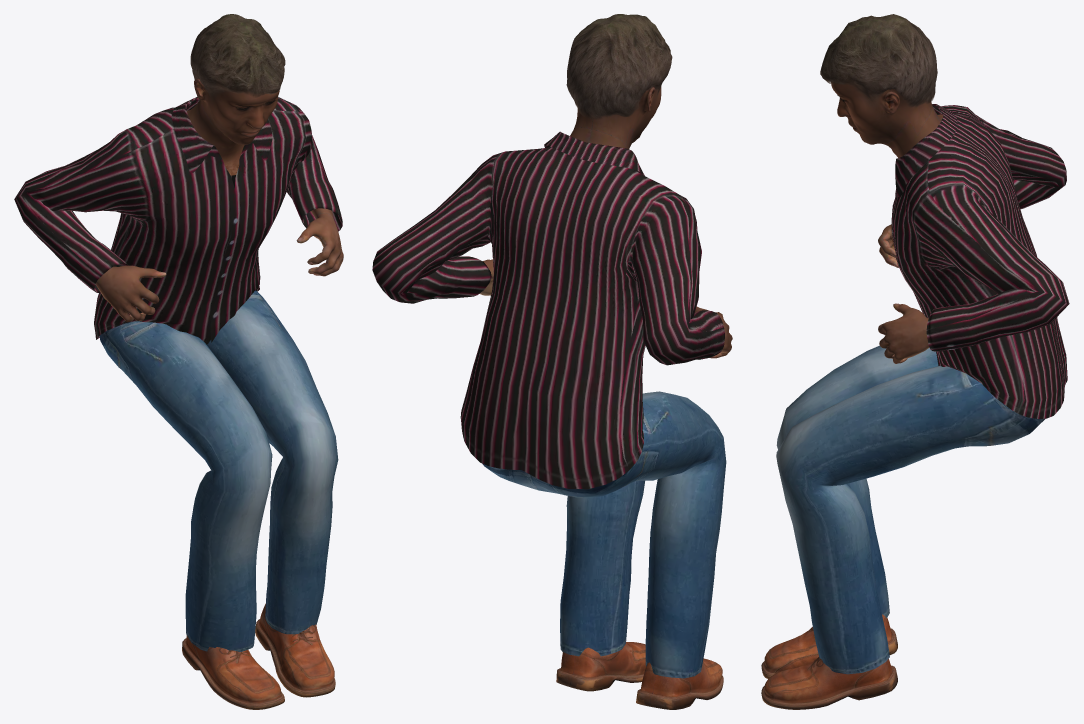
Rendered from uomo-02.glb.
3 renders of one model, left to right at view 1: azimuth 30°, elevation 25°; view 2: azimuth 150°, elevation 25°; view 3: azimuth 270°, elevation 25°, orthographic. The views are drawn at different scales.
Parts seen in each view (by area): view 1: Human.male_casualsuit03, Human, Human.shoes01, Human.short02; view 2: Human.male_casualsuit03, Human.short02, Human.shoes01, Human; view 3: Human.male_casualsuit03, Human.short02, Human, Human.shoes01.
Part boxes in pixels (x1,y1,x2,y2): Human.male_casualsuit03: (14, 96, 342, 651); Human: (95, 78, 343, 321); Human.shoes01: (182, 603, 335, 709); Human.short02: (190, 14, 285, 100); Human.male_casualsuit03: (372, 131, 726, 678); Human.short02: (566, 14, 672, 119); Human.shoes01: (556, 642, 723, 709); Human: (479, 86, 732, 358); Human.male_casualsuit03: (776, 104, 1069, 674); Human.short02: (820, 14, 937, 107); Human: (831, 82, 943, 363); Human.shoes01: (761, 614, 897, 709).
Bounding box in the file's own units: 0.7055 × 1.49 × 0.6257.
12 materials, 12 textured.
